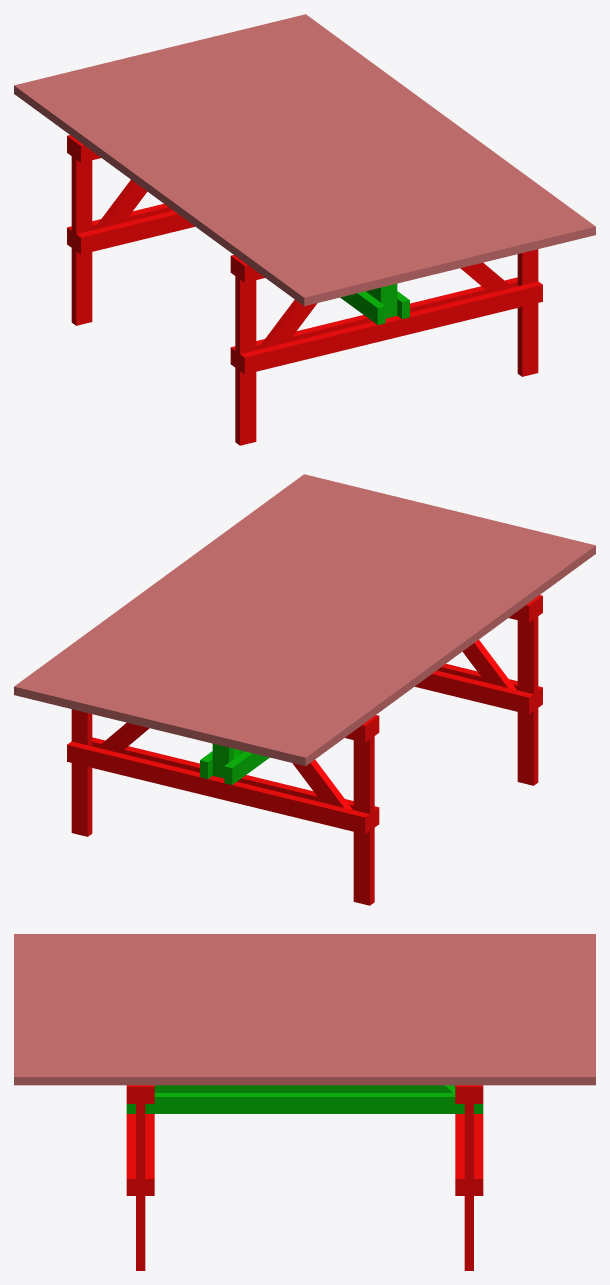
The model's file is result.glb.
The picture shows the model from 3 angles, top to bottom: view 1: azimuth 30°, elevation 25°; view 2: azimuth 150°, elevation 25°; view 3: azimuth 270°, elevation 25°; orthographic projection.
Parts seen in each view (by area): view 1: a653490e-bdb6-41e4-be6a-c5da83bcfe2b__Box, b1035097-ff41-45cf-973f-fb4246442ed5__sideH, bbbcd38b-2661-4bc2-9cac-73cf066ddd09__undefined, bf9e0d38-fb0f-4909-8bad-5d206a78b6bc__undefined, e40e7aa2-829a-4ad3-84b3-807f74716a78__undefined, 699d9e1b-0dd2-4604-9b60-6c7bd84d9144__undefined, 996b3e97-2e6f-4413-a2c3-751b660f8187__undefined, c23413f3-445d-483a-aa69-cec44c6000f0__undefined, a4a6cdd3-389c-4647-97e4-7e47bcbcd320__undefined, fcfaf03d-1764-4408-b944-6ca629805d75__undefined, b7082bf8-749f-4636-9576-804f3cdb0db7__undefined, 7b03d0c0-04b0-4c73-b200-e658f76948dd__undefined (+17 smaller); view 2: a653490e-bdb6-41e4-be6a-c5da83bcfe2b__Box, 0de2e552-bf5d-43f9-8549-75d82105e1d2__undefined, bbbcd38b-2661-4bc2-9cac-73cf066ddd09__undefined, bf9e0d38-fb0f-4909-8bad-5d206a78b6bc__undefined, e40e7aa2-829a-4ad3-84b3-807f74716a78__undefined, 699d9e1b-0dd2-4604-9b60-6c7bd84d9144__undefined, 996b3e97-2e6f-4413-a2c3-751b660f8187__undefined, c23413f3-445d-483a-aa69-cec44c6000f0__undefined, a4a6cdd3-389c-4647-97e4-7e47bcbcd320__undefined, fcfaf03d-1764-4408-b944-6ca629805d75__undefined, b7082bf8-749f-4636-9576-804f3cdb0db7__undefined, 7b03d0c0-04b0-4c73-b200-e658f76948dd__undefined (+17 smaller); view 3: 699d9e1b-0dd2-4604-9b60-6c7bd84d9144__undefined, c1a38da1-dfae-4b8f-8e8a-31bdee88aeb7__strutH, a4a6cdd3-389c-4647-97e4-7e47bcbcd320__undefined, 996b3e97-2e6f-4413-a2c3-751b660f8187__undefined, dab276fd-acdb-49a0-bd07-f37e745226ba__undefined, 8055bdef-fa4d-4132-8c0c-c5f18416c196__undefined, bf9e0d38-fb0f-4909-8bad-5d206a78b6bc__undefined, 36ad6f97-d405-4329-9504-522984484b23__undefined, fcfaf03d-1764-4408-b944-6ca629805d75__undefined, b9a8af59-42d0-44a2-9604-b3c94ef63e75__undefined, b7082bf8-749f-4636-9576-804f3cdb0db7__undefined, a653490e-bdb6-41e4-be6a-c5da83bcfe2b__Box (+14 smaller).
Boxes of the visible parts, bbox=[...] form: a653490e-bdb6-41e4-be6a-c5da83bcfe2b__Box: bbox=[14, 81, 320, 306]; b1035097-ff41-45cf-973f-fb4246442ed5__sideH: bbox=[240, 281, 542, 374]; bbbcd38b-2661-4bc2-9cac-73cf066ddd09__undefined: bbox=[46, 73, 352, 298]; bf9e0d38-fb0f-4909-8bad-5d206a78b6bc__undefined: bbox=[176, 42, 482, 266]; e40e7aa2-829a-4ad3-84b3-807f74716a78__undefined: bbox=[257, 22, 563, 246]; 699d9e1b-0dd2-4604-9b60-6c7bd84d9144__undefined: bbox=[290, 14, 595, 238]; 996b3e97-2e6f-4413-a2c3-751b660f8187__undefined: bbox=[128, 54, 433, 278]; c23413f3-445d-483a-aa69-cec44c6000f0__undefined: bbox=[95, 62, 401, 286]; a4a6cdd3-389c-4647-97e4-7e47bcbcd320__undefined: bbox=[111, 57, 417, 282]; fcfaf03d-1764-4408-b944-6ca629805d75__undefined: bbox=[209, 34, 514, 258]; b7082bf8-749f-4636-9576-804f3cdb0db7__undefined: bbox=[241, 26, 547, 250]; 7b03d0c0-04b0-4c73-b200-e658f76948dd__undefined: bbox=[30, 77, 336, 302]; a653490e-bdb6-41e4-be6a-c5da83bcfe2b__Box: bbox=[289, 541, 595, 766]; 0de2e552-bf5d-43f9-8549-75d82105e1d2__undefined: bbox=[67, 741, 369, 834]; bbbcd38b-2661-4bc2-9cac-73cf066ddd09__undefined: bbox=[257, 533, 563, 758]; bf9e0d38-fb0f-4909-8bad-5d206a78b6bc__undefined: bbox=[127, 502, 433, 726]; e40e7aa2-829a-4ad3-84b3-807f74716a78__undefined: bbox=[46, 482, 352, 706]; 699d9e1b-0dd2-4604-9b60-6c7bd84d9144__undefined: bbox=[14, 474, 319, 698]; 996b3e97-2e6f-4413-a2c3-751b660f8187__undefined: bbox=[176, 514, 481, 738]; c23413f3-445d-483a-aa69-cec44c6000f0__undefined: bbox=[208, 522, 514, 746]; a4a6cdd3-389c-4647-97e4-7e47bcbcd320__undefined: bbox=[192, 517, 498, 742]; fcfaf03d-1764-4408-b944-6ca629805d75__undefined: bbox=[95, 494, 400, 718]; b7082bf8-749f-4636-9576-804f3cdb0db7__undefined: bbox=[62, 486, 368, 710]; 7b03d0c0-04b0-4c73-b200-e658f76948dd__undefined: bbox=[273, 537, 579, 762]; 699d9e1b-0dd2-4604-9b60-6c7bd84d9144__undefined: bbox=[14, 1069, 595, 1085]; c1a38da1-dfae-4b8f-8e8a-31bdee88aeb7__strutH: bbox=[126, 1093, 483, 1113]; a4a6cdd3-389c-4647-97e4-7e47bcbcd320__undefined: bbox=[14, 981, 595, 989]; 996b3e97-2e6f-4413-a2c3-751b660f8187__undefined: bbox=[14, 989, 595, 997]; dab276fd-acdb-49a0-bd07-f37e745226ba__undefined: bbox=[14, 997, 595, 1005]; 8055bdef-fa4d-4132-8c0c-c5f18416c196__undefined: bbox=[14, 1005, 595, 1013]; bf9e0d38-fb0f-4909-8bad-5d206a78b6bc__undefined: bbox=[14, 1013, 595, 1021]; 36ad6f97-d405-4329-9504-522984484b23__undefined: bbox=[14, 1021, 595, 1029]; fcfaf03d-1764-4408-b944-6ca629805d75__undefined: bbox=[14, 1029, 595, 1037]; b9a8af59-42d0-44a2-9604-b3c94ef63e75__undefined: bbox=[14, 1037, 595, 1045]; b7082bf8-749f-4636-9576-804f3cdb0db7__undefined: bbox=[14, 1045, 595, 1053]; a653490e-bdb6-41e4-be6a-c5da83bcfe2b__Box: bbox=[14, 934, 595, 941].
Size of the model in its own units: 920 by 565 by 1550.
